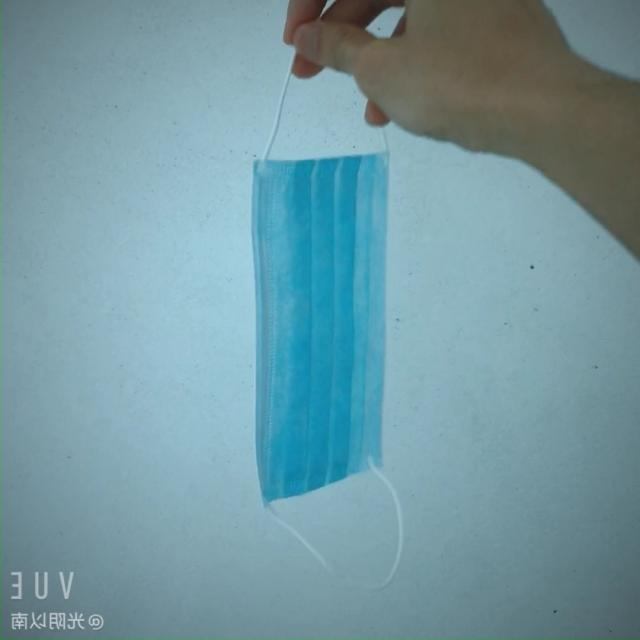face mask: (239, 146, 410, 514)
